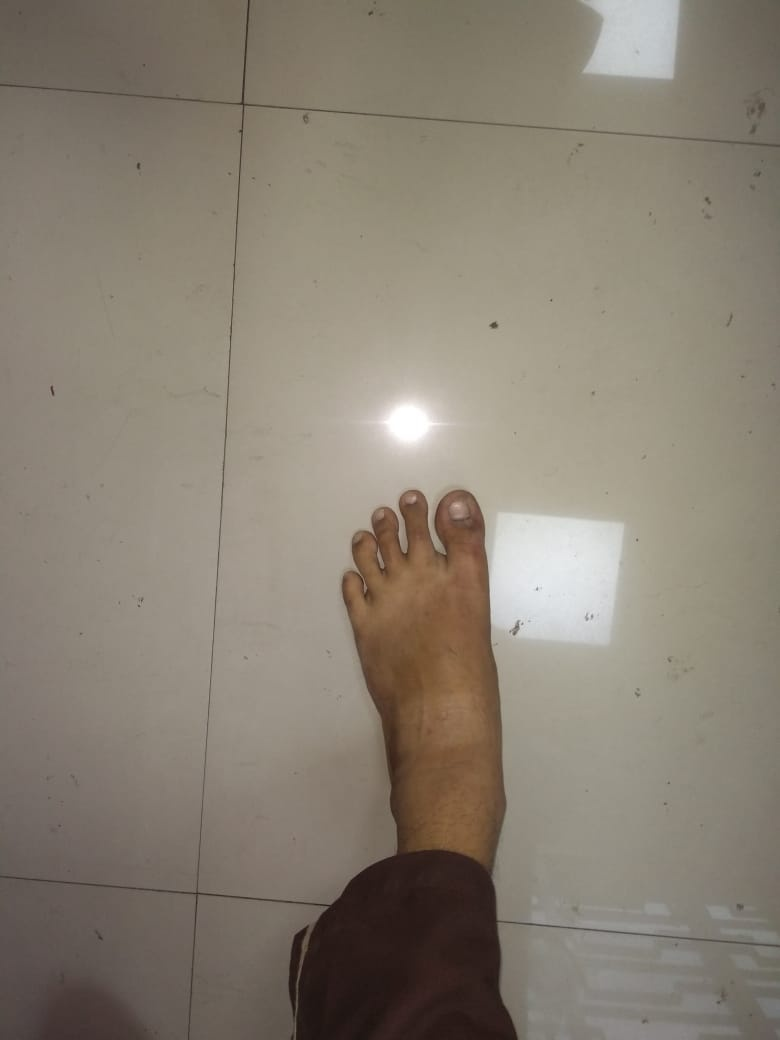feet: (274, 470, 524, 872)
